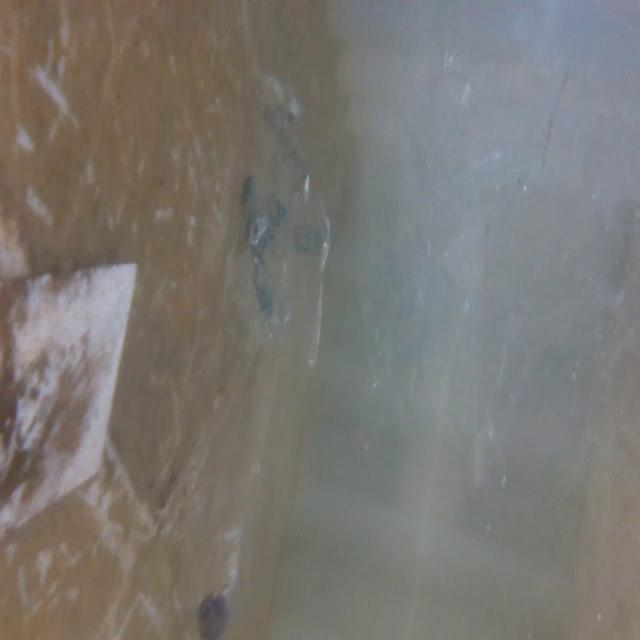metal: (0, 254, 144, 516)
plastic bags: (362, 0, 640, 492), (194, 47, 342, 376)
plastic bottle: (184, 405, 273, 640)
